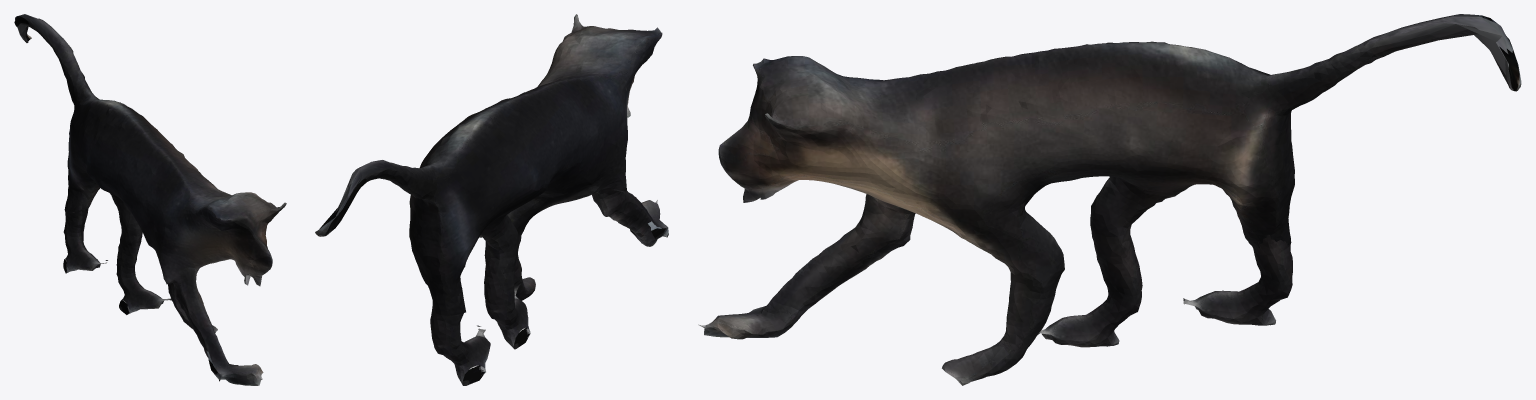
The picture shows the model from 3 angles, left to right: view 1: azimuth 30°, elevation 25°; view 2: azimuth 150°, elevation 25°; view 3: azimuth 270°, elevation 25°; orthographic projection. The views are drawn at different scales.
Visible parts, largest first — view 1: Mesh_0.004; view 2: Mesh_0.004; view 3: Mesh_0.004.
Boxes of the visible parts, x1,y1,x2,y2 form: Mesh_0.004: [14, 14, 286, 385]; Mesh_0.004: [315, 14, 668, 385]; Mesh_0.004: [698, 14, 1521, 385].
Size of the model in its own units: 0.1236 by 0.2948 by 0.6364.
Materials: 1 (1 with a texture image).
